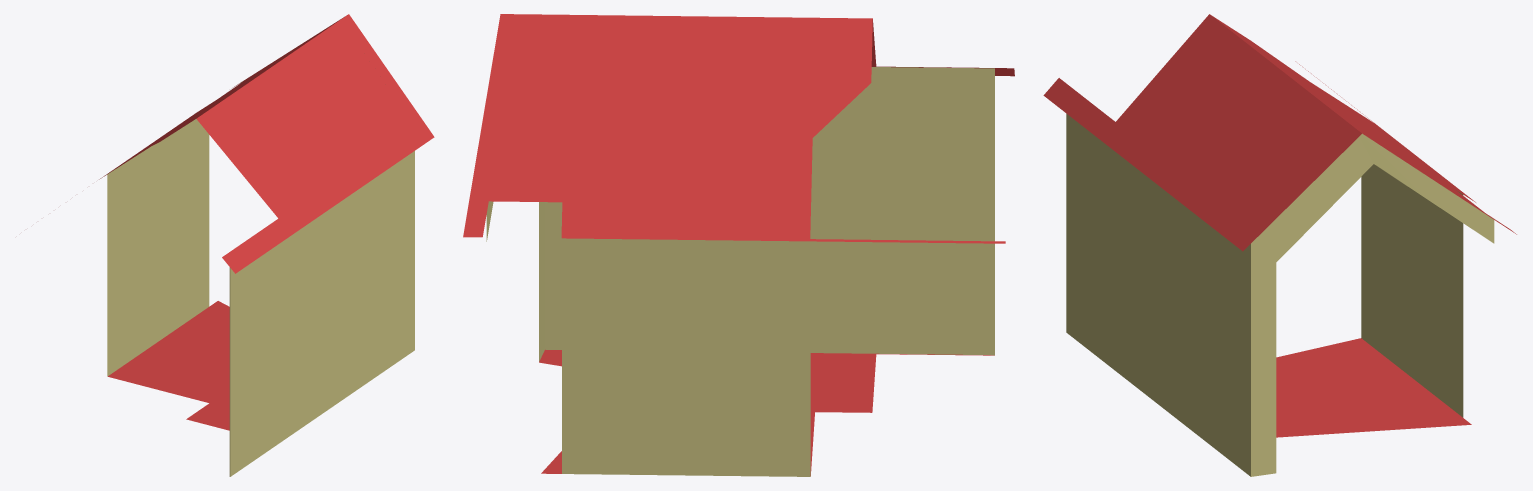
3 views of the same model, side by side, from view 1: azimuth 30°, elevation 25°; view 2: azimuth 150°, elevation 25°; view 3: azimuth 270°, elevation 25° (orthographic). The views are drawn at different scales.
Size of the model in its own units: 22.6 by 21.24 by 16.53.
